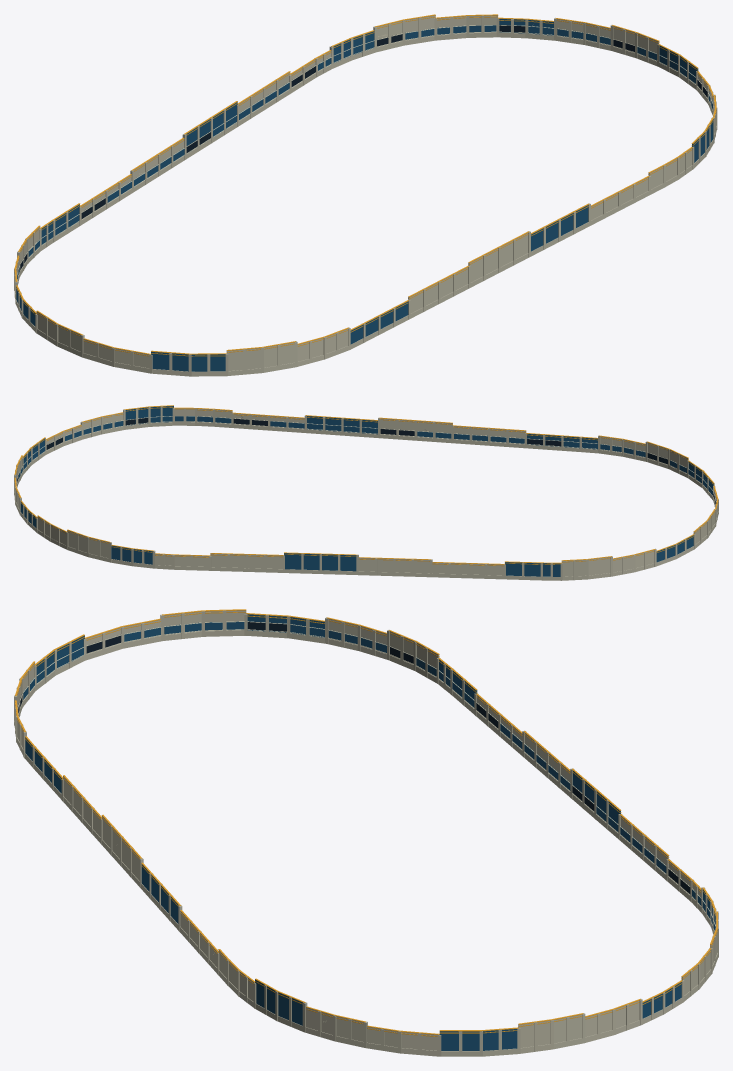
The model's file is stadium_perimeter.glb.
3 views of the same model, one above another, from view 1: azimuth 30°, elevation 25°; view 2: azimuth 150°, elevation 25°; view 3: azimuth 270°, elevation 25° (orthographic). The views are drawn at different scales.
Visible parts, largest first — view 1: StadiumWall, Buttresses, PerimeterFoundation, PerimeterFascia, ServiceFacade, ServiceLintels; view 2: StadiumWall, PerimeterFoundation, Buttresses, PerimeterFascia, ServiceFacade, ServiceLintels; view 3: StadiumWall, Buttresses, PerimeterFoundation, PerimeterFascia, ServiceFacade, ServiceLintels.
Part boxes in pixels (bbox=[...]): StadiumWall: bbox=[16, 15, 716, 371]; Buttresses: bbox=[14, 15, 717, 376]; PerimeterFoundation: bbox=[14, 32, 716, 376]; PerimeterFascia: bbox=[14, 14, 716, 356]; ServiceFacade: bbox=[17, 25, 712, 279]; ServiceLintels: bbox=[17, 25, 713, 280]; StadiumWall: bbox=[16, 406, 718, 576]; PerimeterFoundation: bbox=[14, 422, 718, 580]; Buttresses: bbox=[14, 406, 718, 580]; PerimeterFascia: bbox=[14, 405, 718, 566]; ServiceFacade: bbox=[16, 416, 716, 504]; ServiceLintels: bbox=[16, 416, 716, 504]; StadiumWall: bbox=[16, 610, 717, 1050]; Buttresses: bbox=[14, 610, 718, 1056]; PerimeterFoundation: bbox=[14, 630, 717, 1056]; PerimeterFascia: bbox=[15, 609, 717, 1036]; ServiceFacade: bbox=[18, 621, 715, 930]; ServiceLintels: bbox=[18, 621, 715, 931].
Size of the model in its own units: 358 by 11.71 by 253.
